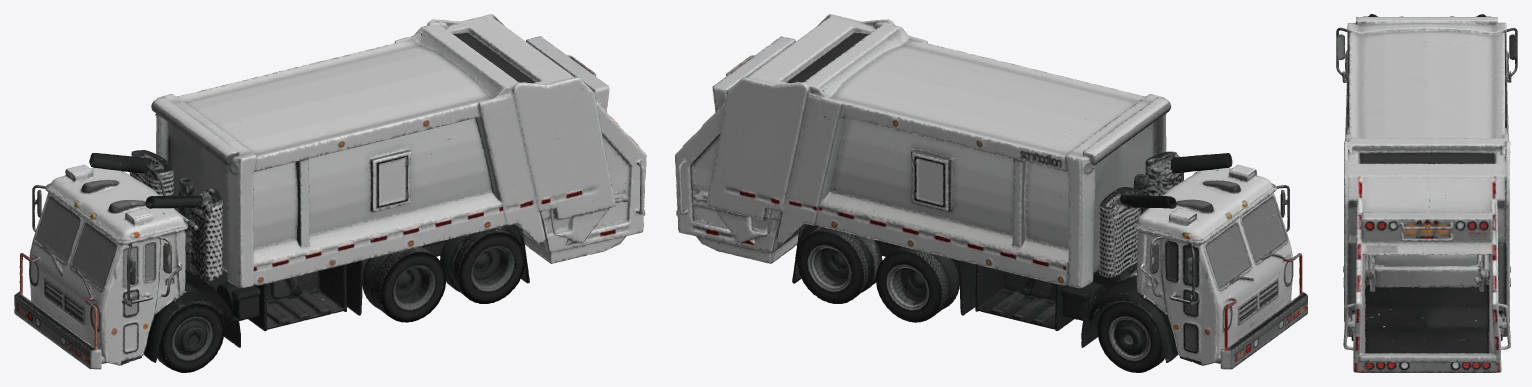
File: nyc_truck-compressed.glb
3 renders of one model, left to right at view 1: azimuth 30°, elevation 25°; view 2: azimuth 150°, elevation 25°; view 3: azimuth 270°, elevation 25°, orthographic. The views are drawn at different scales.
Visible parts, largest first — view 1: mesh_node; view 2: mesh_node; view 3: mesh_node.
Part boxes in pixels (<box>): mesh_node: <box>14,14,646,372</box>; mesh_node: <box>675,14,1307,372</box>; mesh_node: <box>1336,14,1517,372</box>.
Size of the model in its own units: 1.86 by 0.693 by 0.5588.
Materials: 1 (1 with a texture image).
